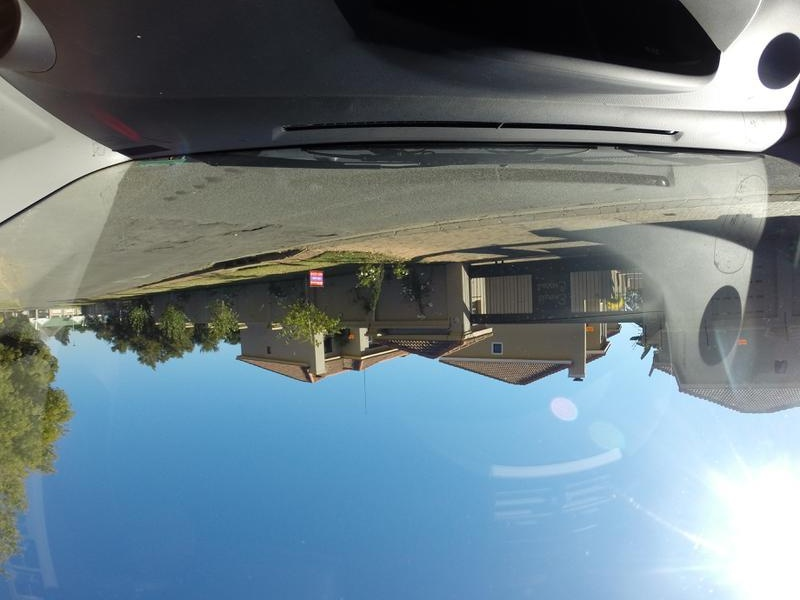pothole: (212, 220, 276, 240), (157, 223, 198, 246), (303, 231, 341, 238)
